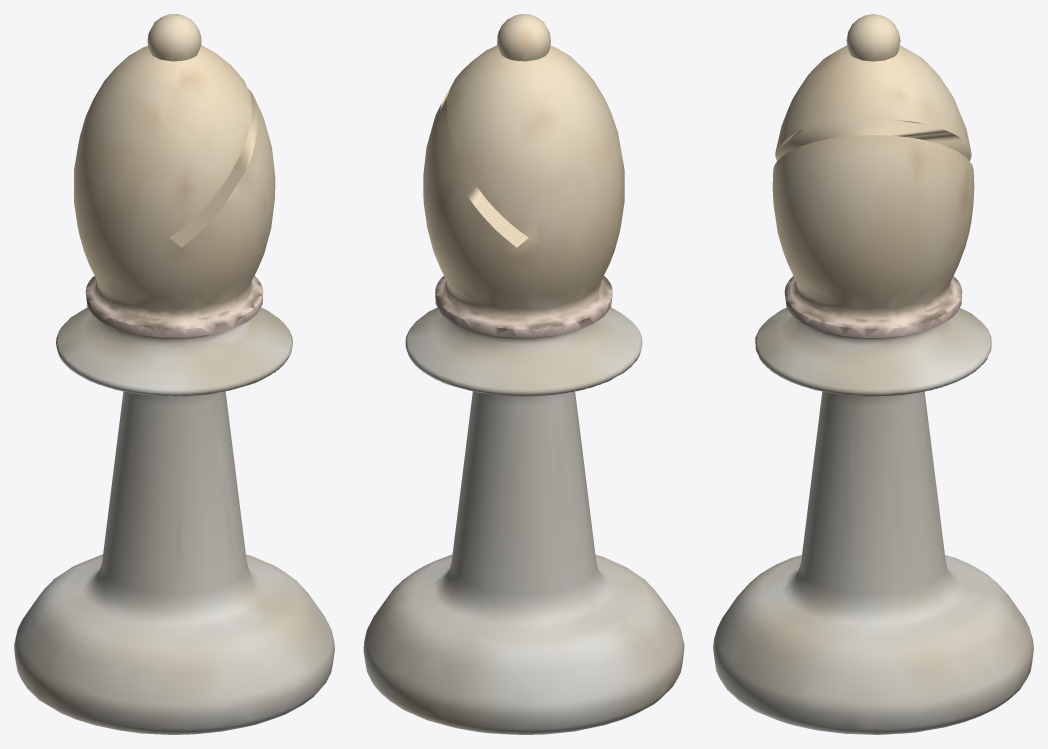
File: bishop-light.glb
3 renders of one model, left to right at view 1: azimuth 30°, elevation 25°; view 2: azimuth 150°, elevation 25°; view 3: azimuth 270°, elevation 25°, orthographic.
Visible parts, largest first — view 1: body; view 2: body; view 3: body.
Boxes of the visible parts, left/top/right/bottom form: body: left=14, top=14, right=334, bottom=734; body: left=363, top=14, right=684, bottom=734; body: left=713, top=14, right=1033, bottom=734.
Bounding box in the file's own units: 2.04 × 4.62 × 2.04.
